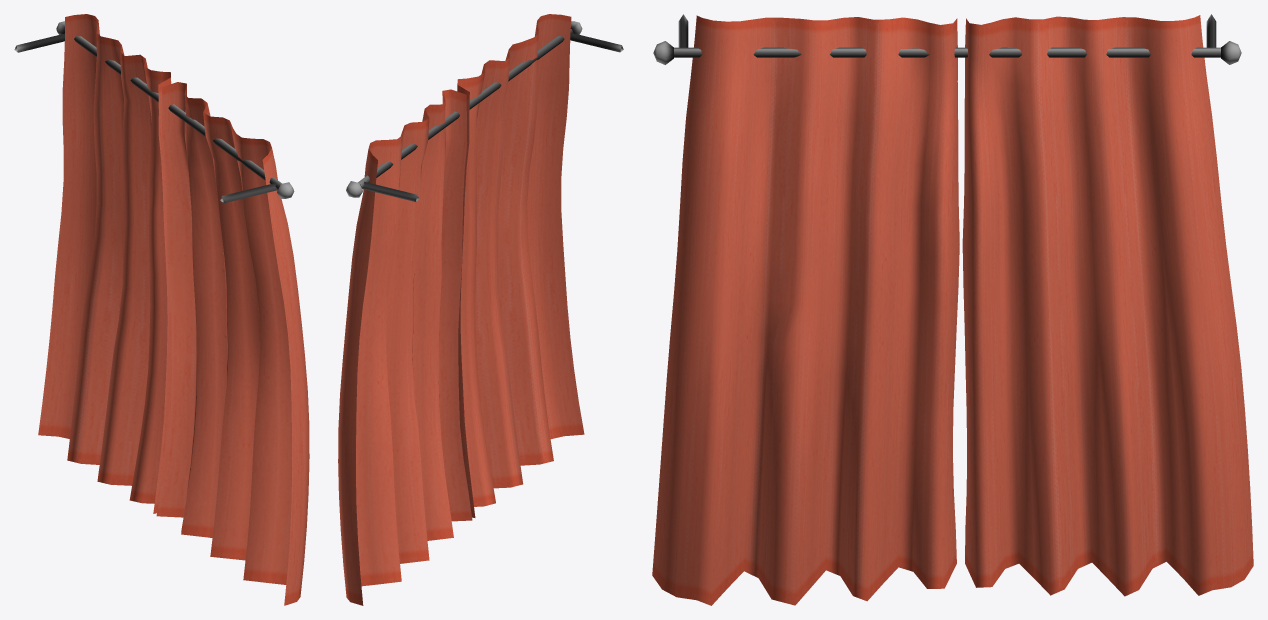
File: assets_drapes.fbx
3 renders of one model, left to right at view 1: azimuth 30°, elevation 25°; view 2: azimuth 150°, elevation 25°; view 3: azimuth 270°, elevation 25°, orthographic. The views are drawn at different scales.
Parts seen in each view (by area): view 1: assets_drapes; view 2: assets_drapes; view 3: assets_drapes.
Boxes of the visible parts, x1,y1,x2,y2 form: assets_drapes: (14,14,309,605); assets_drapes: (338,14,623,605); assets_drapes: (652,14,1253,605).
Bounding box in the file's own units: 5.52 × 23.72 × 22.64.
